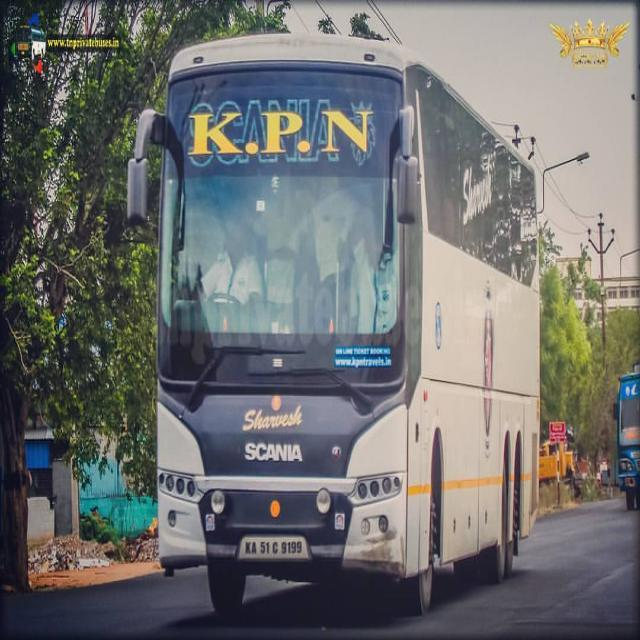Bus: (122, 31, 542, 614), (611, 364, 640, 508)
